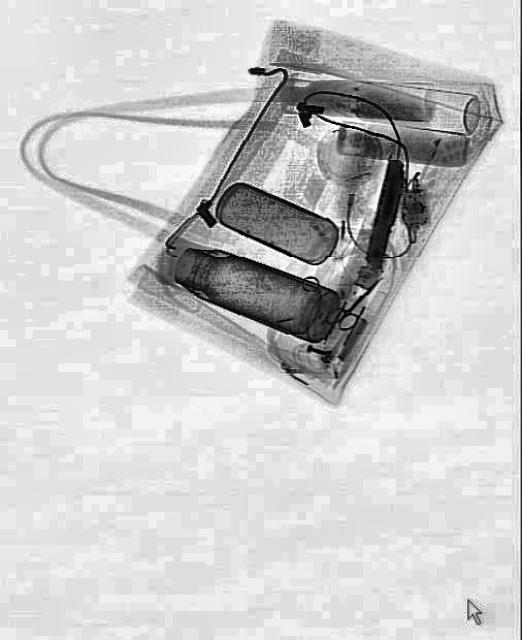Scissors: (322, 262, 392, 338)
